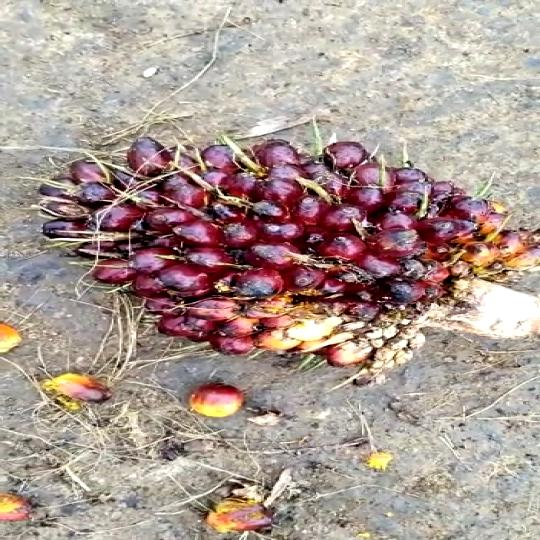kurang masak: (10, 107, 540, 406)
